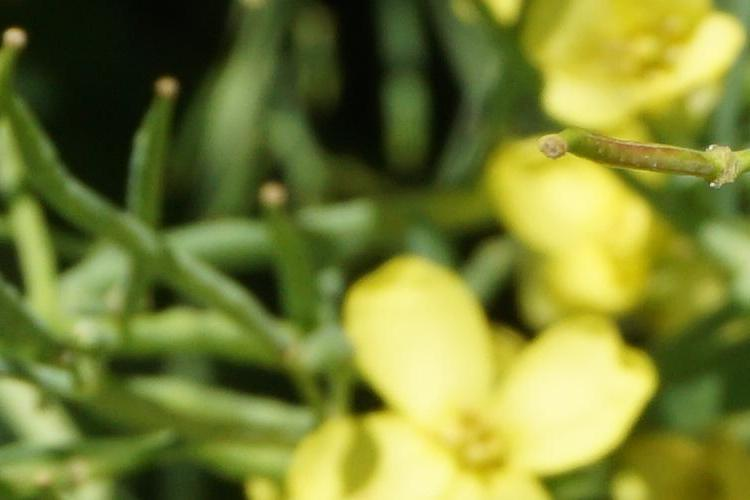pod: (522, 129, 739, 181)
yellow: (310, 266, 625, 494)
